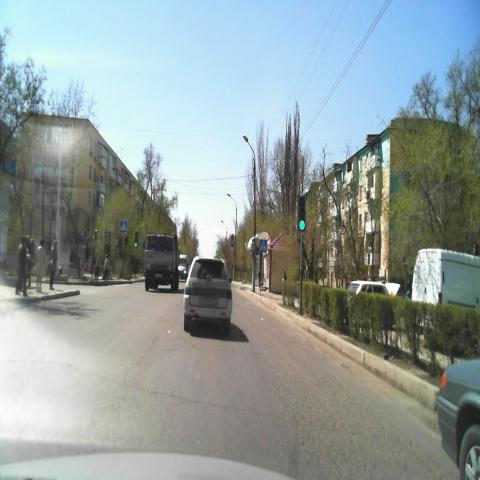5_19_1: (260, 240, 268, 252), (120, 220, 127, 232)
